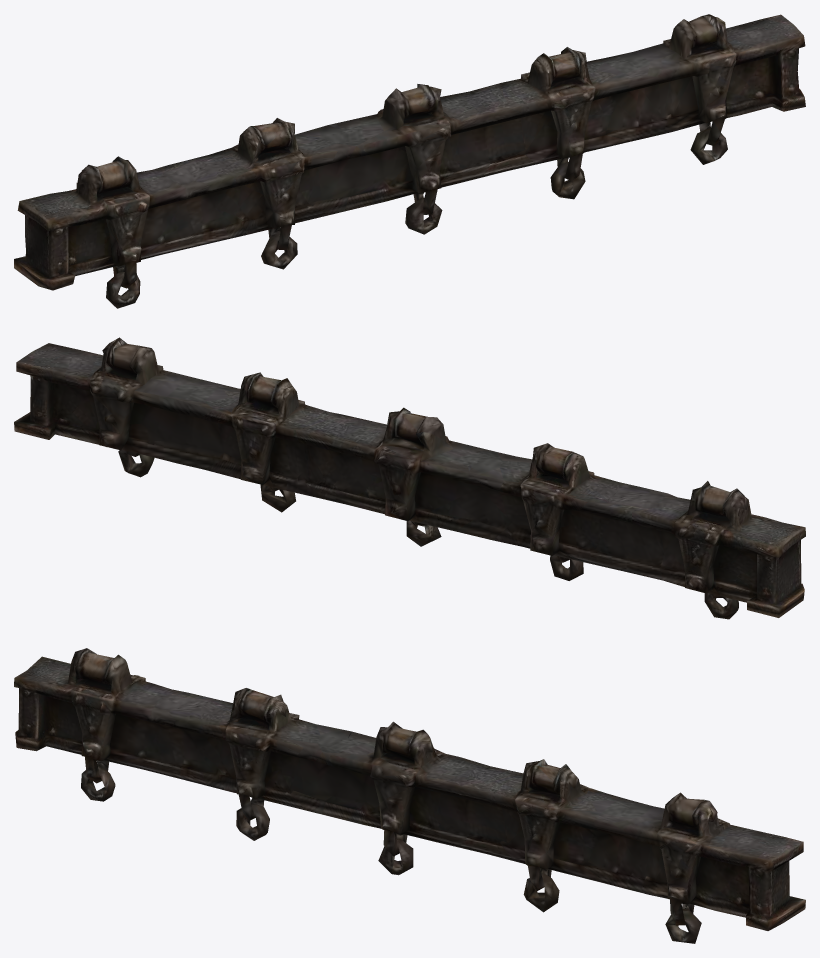
The model's file is track.glb.
3 views of the same model, one above another, from view 1: azimuth 30°, elevation 25°; view 2: azimuth 150°, elevation 25°; view 3: azimuth 330°, elevation 25° (orthographic).
Visible parts, largest first — view 1: track; view 2: track; view 3: track.
Part boxes in pixels (x1,y1,x2,y2): track: (14, 14, 805, 308); track: (14, 337, 805, 619); track: (14, 648, 805, 943).
Bounding box in the file's own units: 4 × 0.7083 × 0.4135.
Materials: 1 (1 with a texture image).
